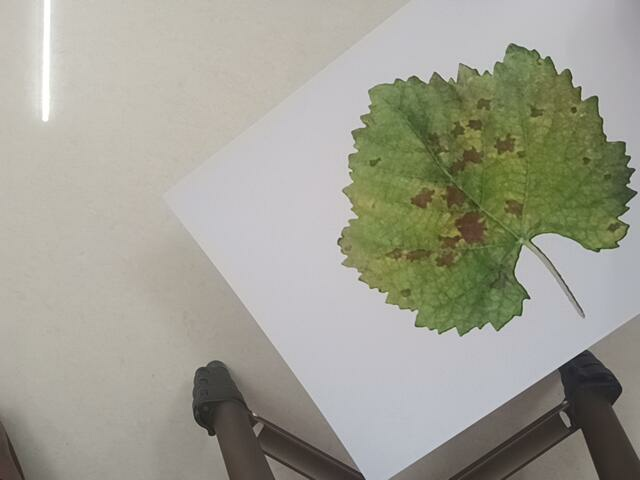Grape_Leaf_Vine_Disease: (321, 38, 640, 348)
